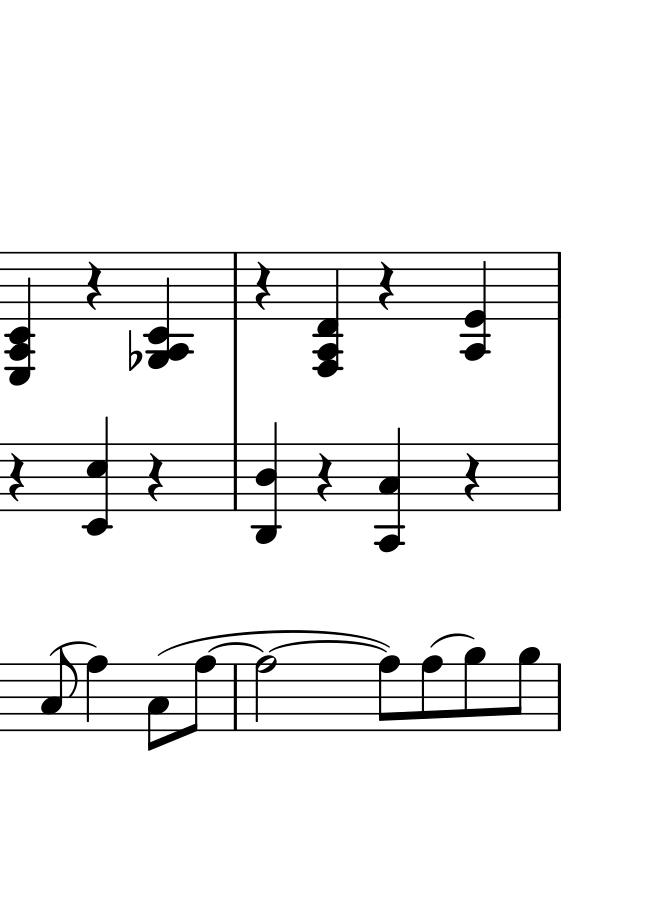2_8: (251, 653, 275, 734)
4_-2_5: (80, 415, 114, 537)
4_-3_4: (251, 421, 283, 545)
4_-4_0: (459, 251, 492, 361)
4_-4_3: (374, 426, 405, 555)
4_8: (80, 654, 109, 736)
4_th: (143, 248, 197, 368), (313, 250, 345, 379), (6, 251, 36, 388)
8_3: (40, 647, 81, 734), (140, 660, 177, 754)
8_8: (176, 653, 222, 745), (417, 652, 449, 735), (374, 650, 404, 736)
8_9: (500, 643, 544, 733), (455, 645, 495, 736)
Flat: (124, 326, 145, 371)
Rests4: (142, 447, 174, 508), (5, 448, 36, 509), (77, 256, 109, 311), (250, 260, 277, 316), (314, 449, 337, 504), (461, 450, 485, 501), (374, 257, 397, 310)
Single_barline: (228, 440, 245, 514), (227, 662, 245, 730), (550, 662, 567, 732), (550, 442, 567, 511), (228, 252, 244, 321), (550, 250, 566, 318)
Slur: (156, 628, 397, 657), (268, 639, 389, 654), (50, 639, 97, 656), (207, 642, 265, 654), (432, 631, 477, 646)
